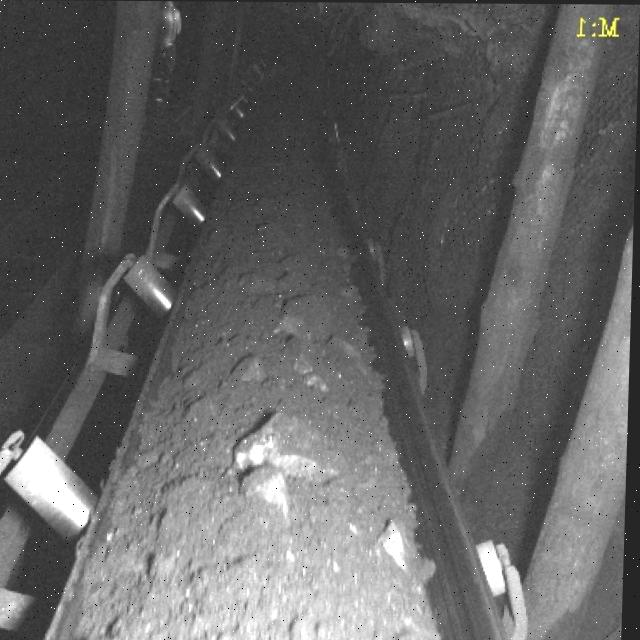large_sized_coal: (231, 421, 337, 472), (239, 468, 295, 510)
